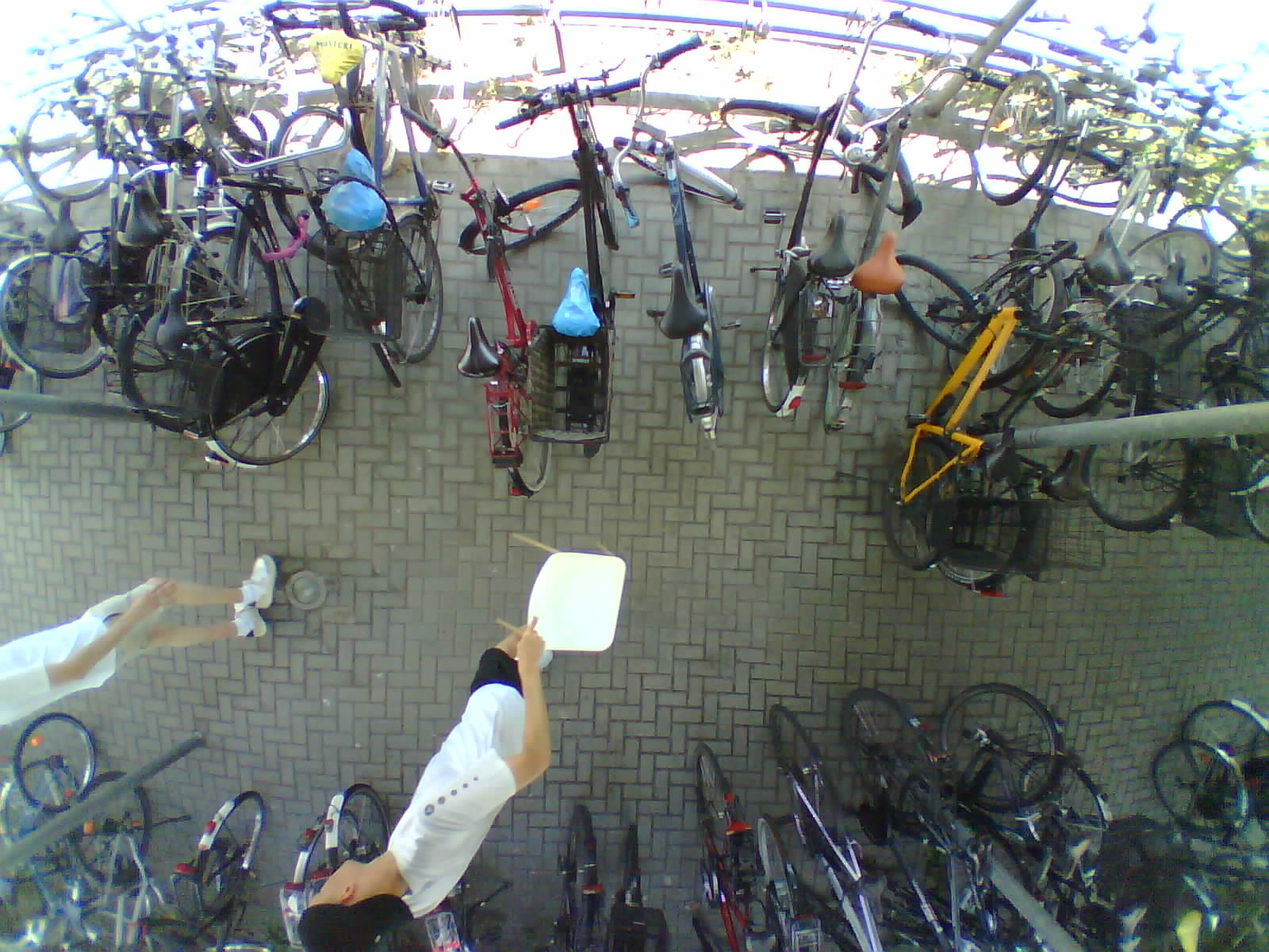bicylce: (192, 112, 362, 464), (724, 30, 868, 428), (862, 245, 1037, 570), (458, 140, 587, 507), (618, 47, 740, 433), (951, 70, 1090, 386), (123, 108, 261, 423), (1084, 226, 1223, 531), (1017, 132, 1151, 417), (818, 62, 917, 424), (305, 41, 405, 384), (4, 92, 113, 377), (772, 695, 888, 952), (548, 65, 622, 460), (378, 0, 435, 366), (684, 742, 763, 952)
saddle: (324, 146, 396, 240), (652, 257, 723, 351), (544, 259, 606, 341), (848, 228, 916, 301), (36, 190, 91, 267), (1042, 439, 1102, 509), (118, 185, 177, 255), (147, 282, 201, 357), (1082, 219, 1134, 294), (455, 309, 508, 379), (301, 31, 364, 84), (808, 204, 849, 283), (985, 418, 1029, 485), (1158, 245, 1193, 304), (852, 872, 889, 926), (1112, 903, 1148, 942), (1177, 908, 1207, 952), (1064, 839, 1092, 880), (63, 895, 84, 942), (0, 873, 17, 909)
